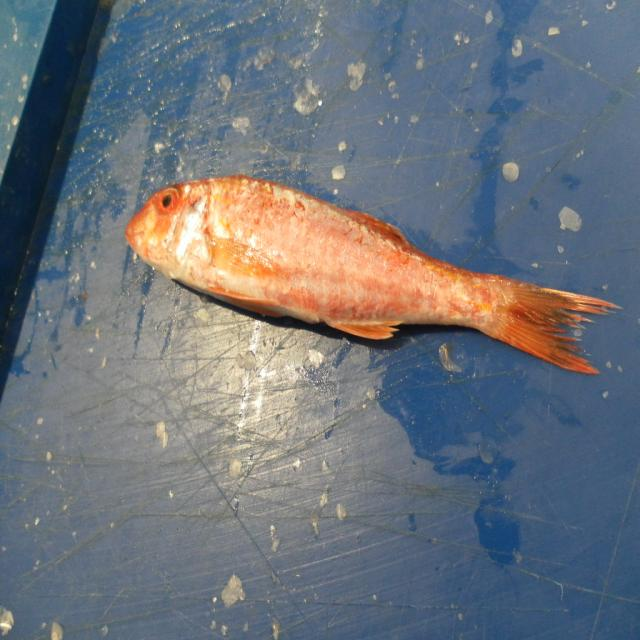Red-Mullet-kefal-: (126, 176, 618, 377)
